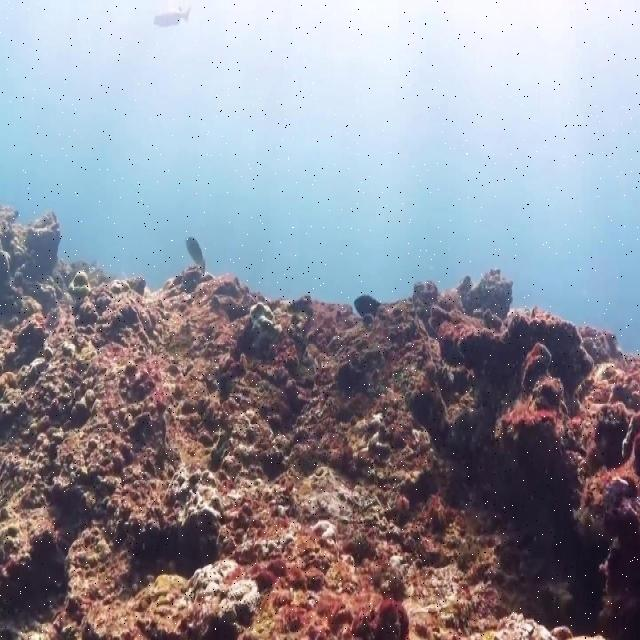fish: (154, 6, 192, 25), (187, 238, 205, 270)
sea-floor: (0, 204, 639, 639)
